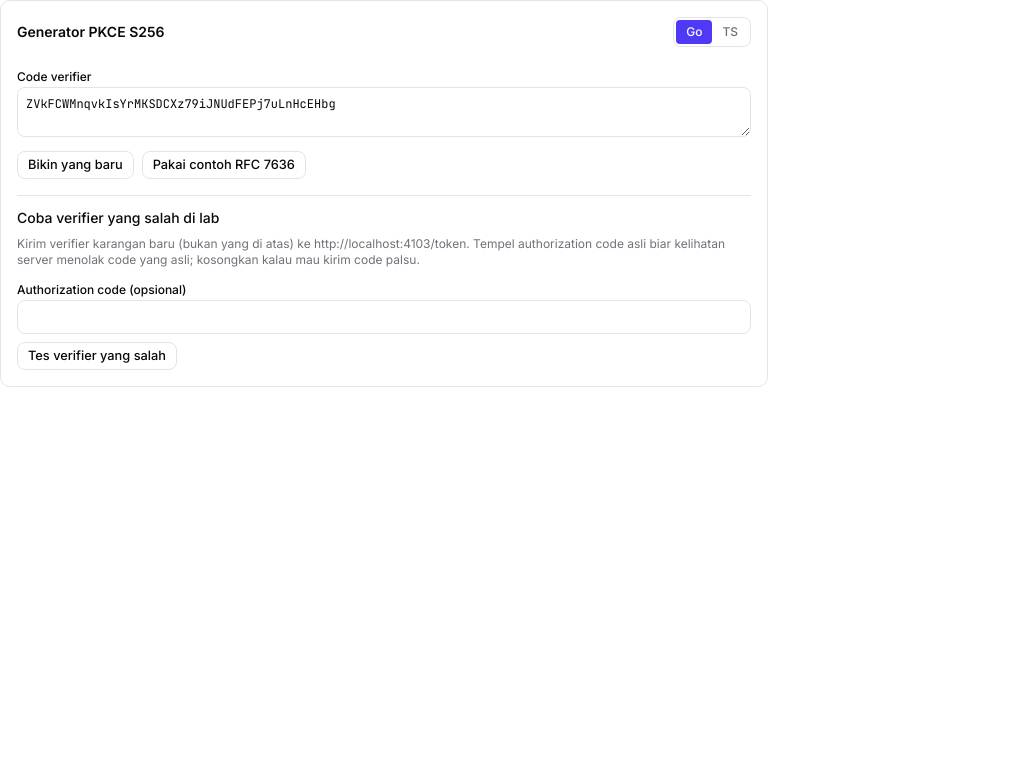
Test case: PkceGenerator › sends the pasted authorization code when there is one
The width and height of the screenshot is (1024, 768).
Type " real-code " into the field labelled "Authorization code (opsional)" at (384, 317), box [17,300,751,334]
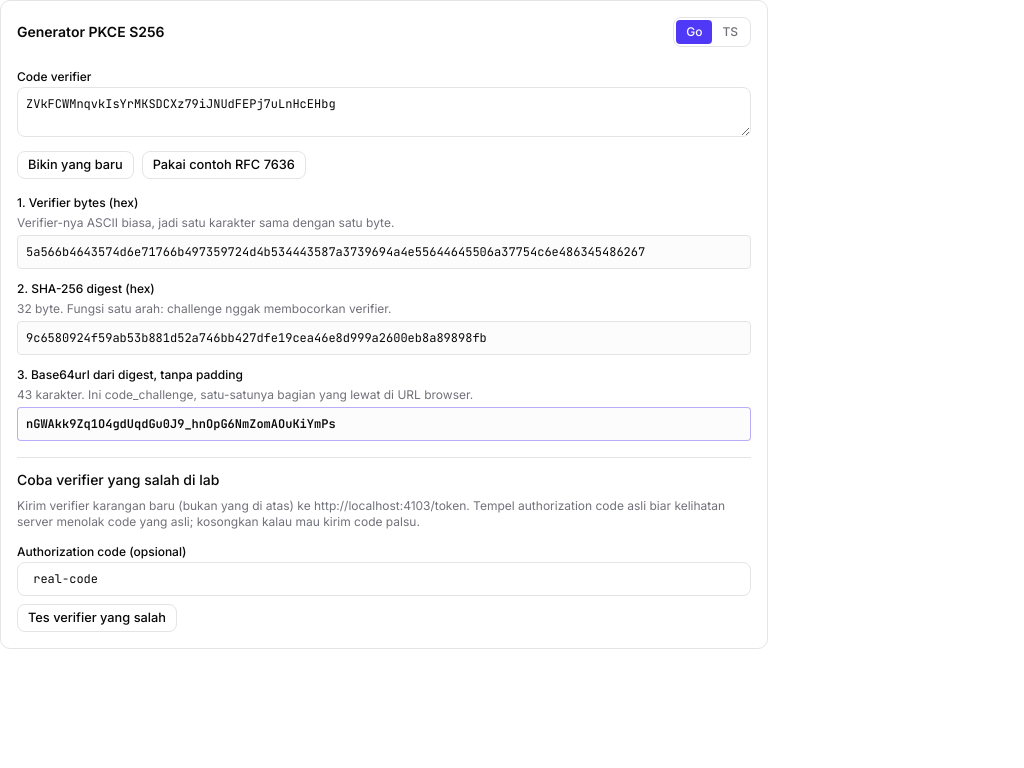
Click the button "Tes verifier yang salah" at (97, 618), box [17,604,177,632]
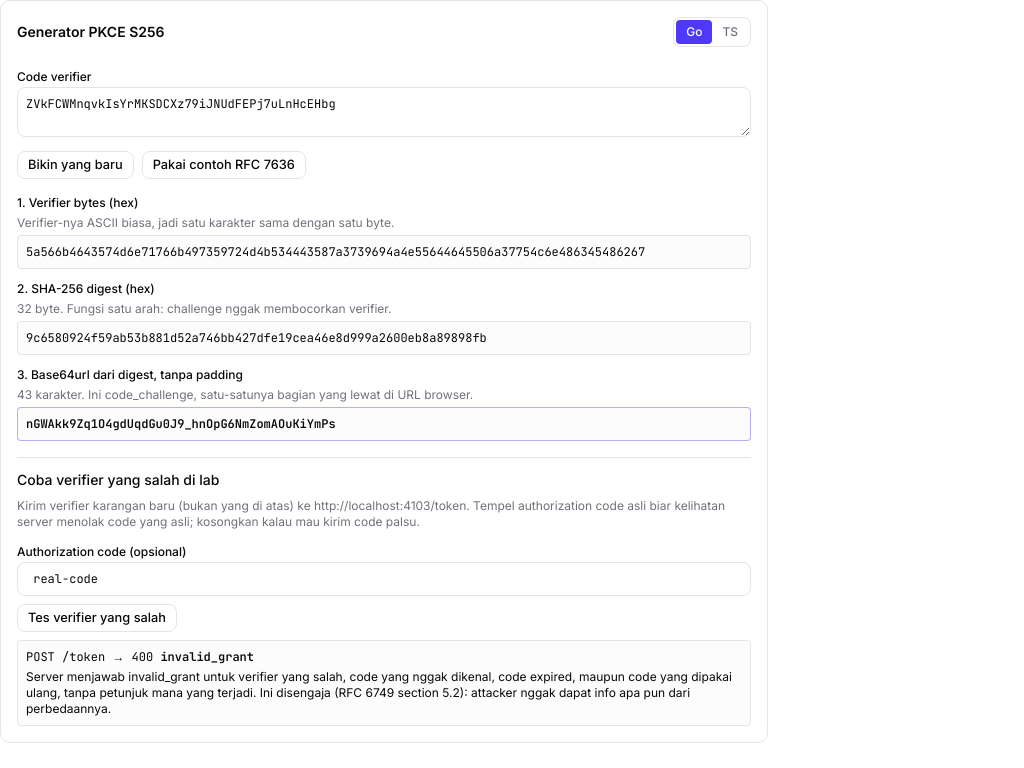
Result: the text "invalid_grant" is shown at [160,649,254,665]
